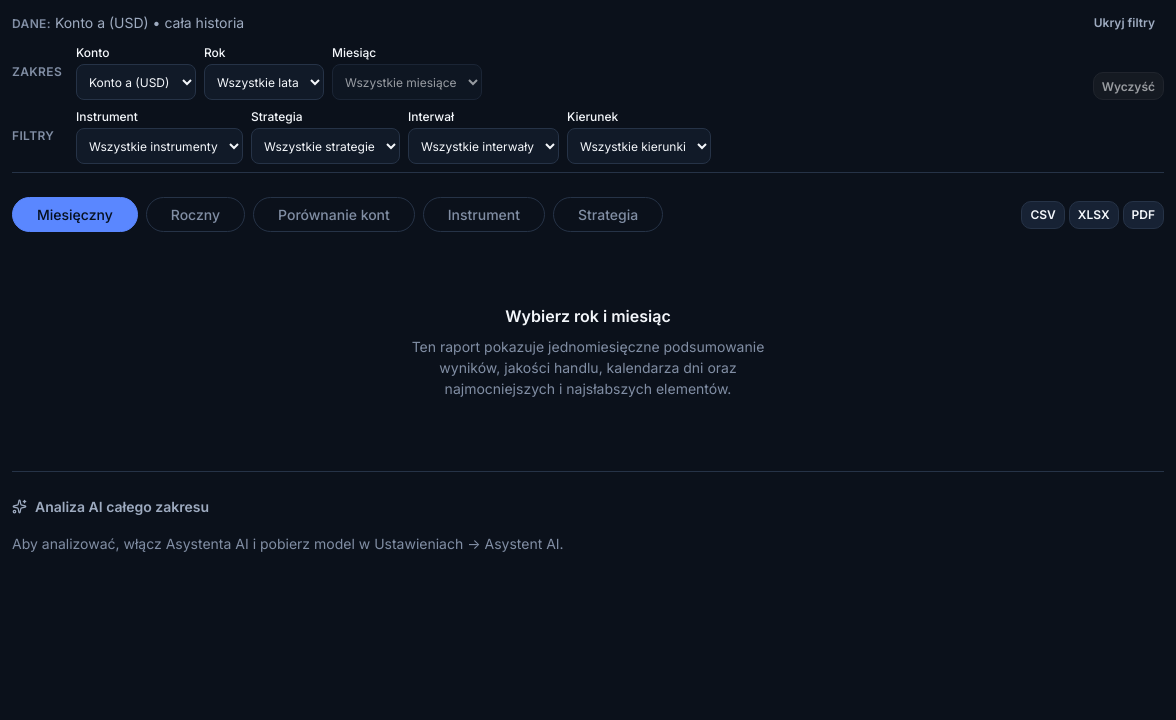
Test: ReportsPage › przyciski eksportu są ukryte na zakładce 'Porównanie kont'
Expected: the button "CSV" is shown, [1021,200,1065,228]
Step 1. Click the tab "Porównanie kont" → [334, 214], box [253,197,415,232]
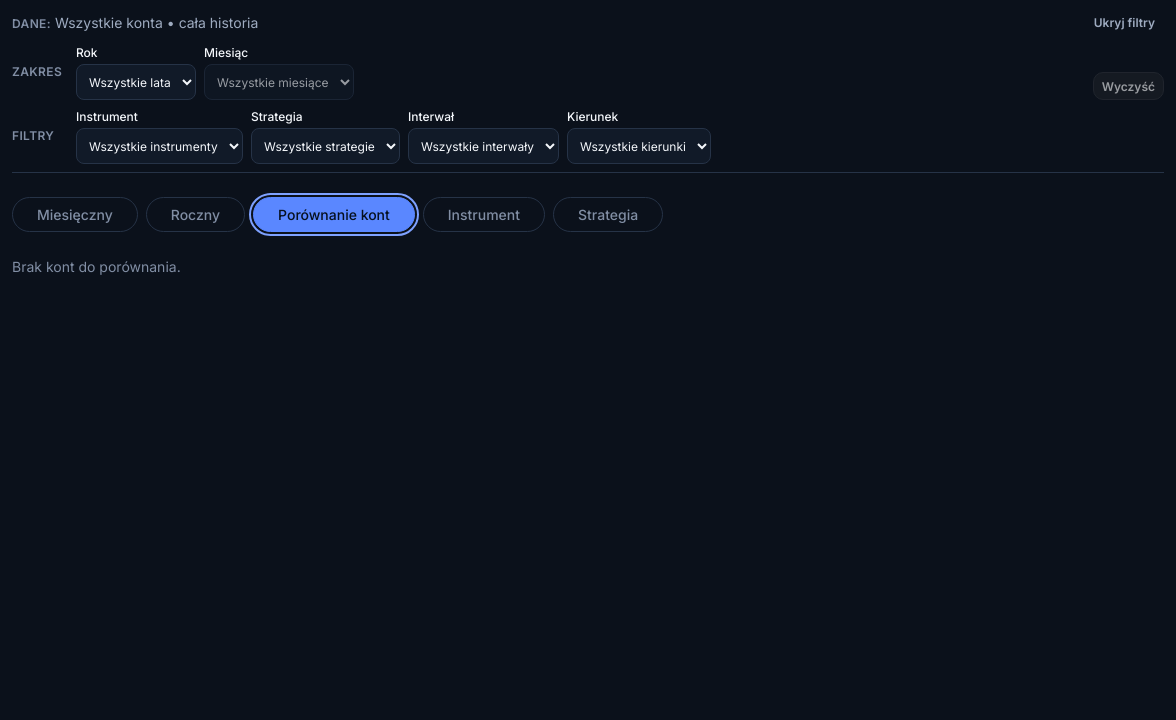
Expected: the button "CSV" is gone
